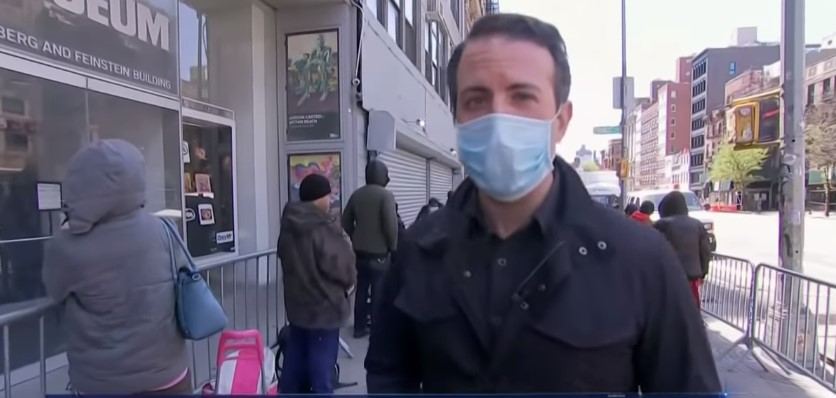face_with_mask: (444, 14, 575, 207)
